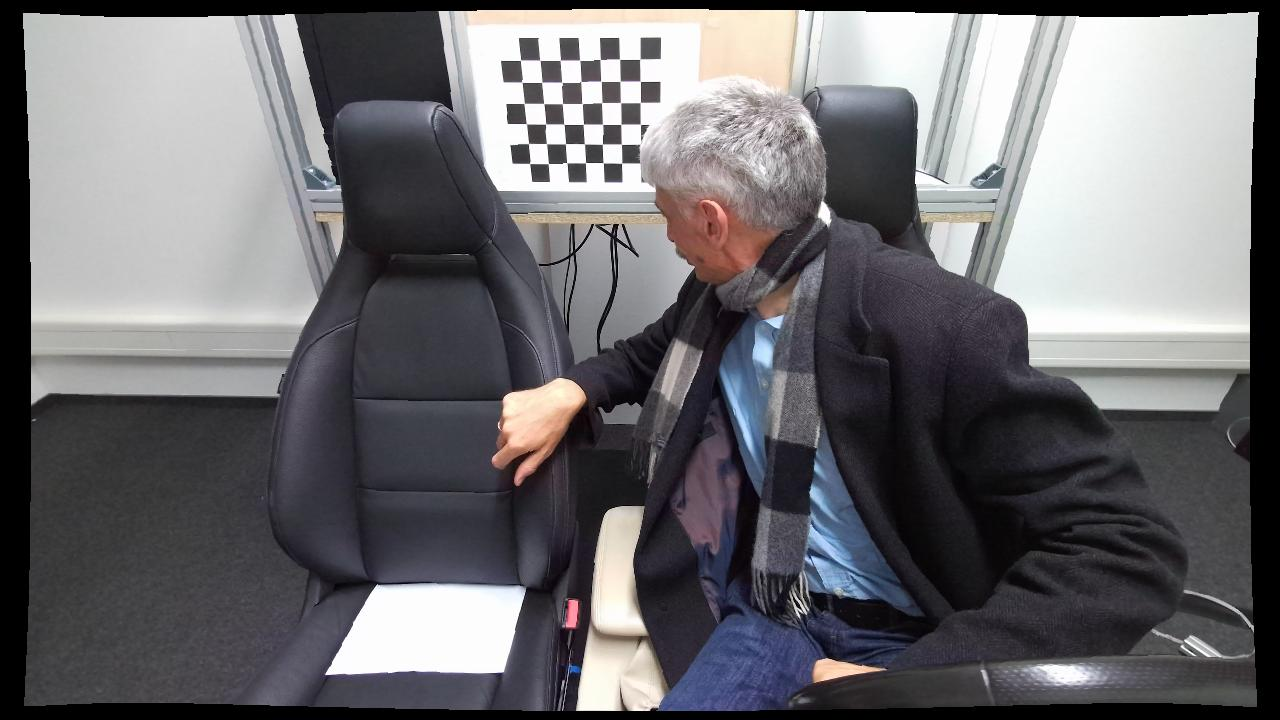Distracted: (611, 80, 1063, 710)
